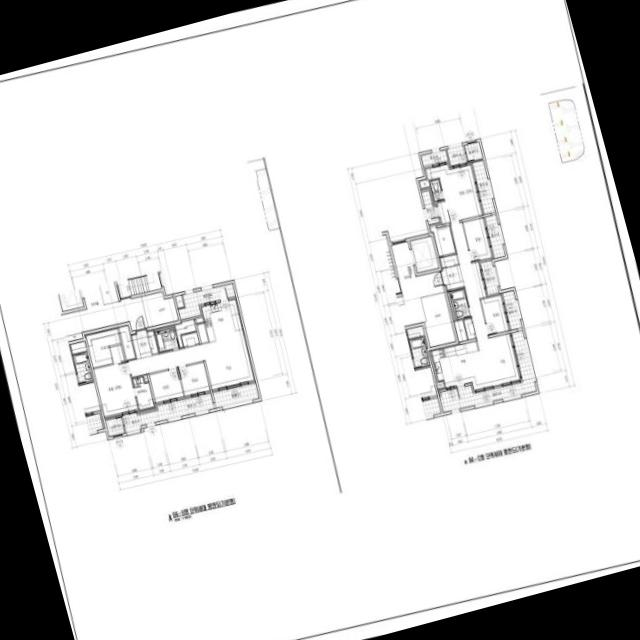background: (0, 0, 640, 640)
space_balconi: (439, 330, 535, 412), (122, 393, 213, 432), (178, 282, 234, 319), (472, 160, 494, 213), (212, 382, 258, 407), (484, 214, 504, 257), (502, 290, 521, 329), (480, 260, 498, 294), (421, 190, 438, 223), (420, 149, 447, 166), (421, 397, 440, 419), (446, 145, 466, 165)
space_bedroom: (423, 161, 482, 223), (93, 344, 137, 418), (462, 217, 493, 261), (149, 368, 183, 404), (480, 292, 509, 334), (178, 362, 209, 397)
space_dressroom: (83, 326, 120, 367)
space_elevator: (409, 235, 438, 272)
space_elevator_hall: (390, 241, 443, 326), (60, 285, 147, 335)
space_front: (131, 329, 157, 358), (439, 264, 464, 290)
space_kitchen: (430, 340, 486, 391), (199, 296, 244, 342)
space_living_room: (450, 222, 520, 387), (127, 333, 255, 391), (414, 366, 436, 397)
space_other: (420, 292, 455, 346), (141, 291, 177, 326), (428, 223, 455, 255), (174, 317, 195, 346), (428, 349, 444, 387), (118, 323, 134, 359), (99, 281, 117, 304), (453, 319, 466, 341), (463, 317, 475, 339), (438, 254, 458, 267), (181, 332, 198, 346), (406, 325, 424, 338), (196, 323, 207, 343), (65, 332, 82, 341), (418, 177, 429, 188), (175, 294, 183, 307), (195, 315, 203, 322), (143, 375, 147, 381)
space_outdoor_room: (104, 416, 124, 436), (464, 141, 482, 160)
space_staircase: (115, 271, 160, 297), (381, 234, 400, 292)
space_toilet: (132, 376, 153, 409), (408, 336, 429, 367), (449, 288, 469, 319), (154, 327, 178, 351), (429, 179, 442, 201)
